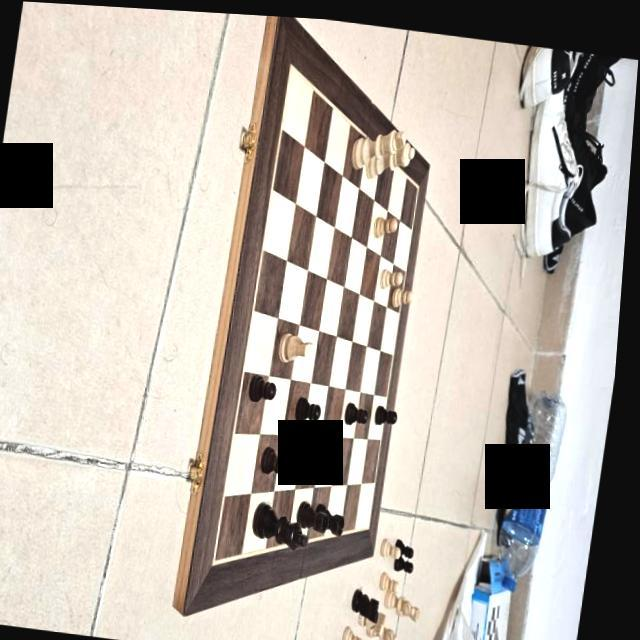chess-table-corners: (215, 546, 227, 570), (286, 56, 296, 72), (372, 516, 378, 528), (416, 176, 423, 186)
